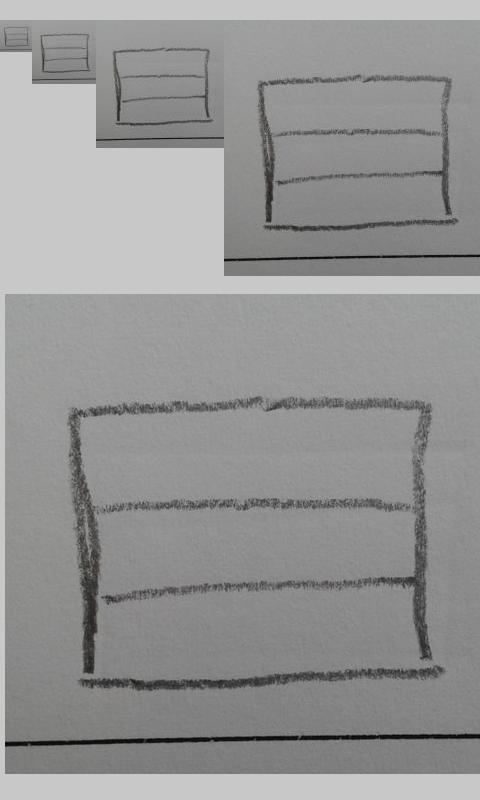list_view: (67, 397, 437, 697), (257, 74, 452, 232), (113, 48, 210, 126), (40, 33, 89, 73), (3, 26, 29, 47)
